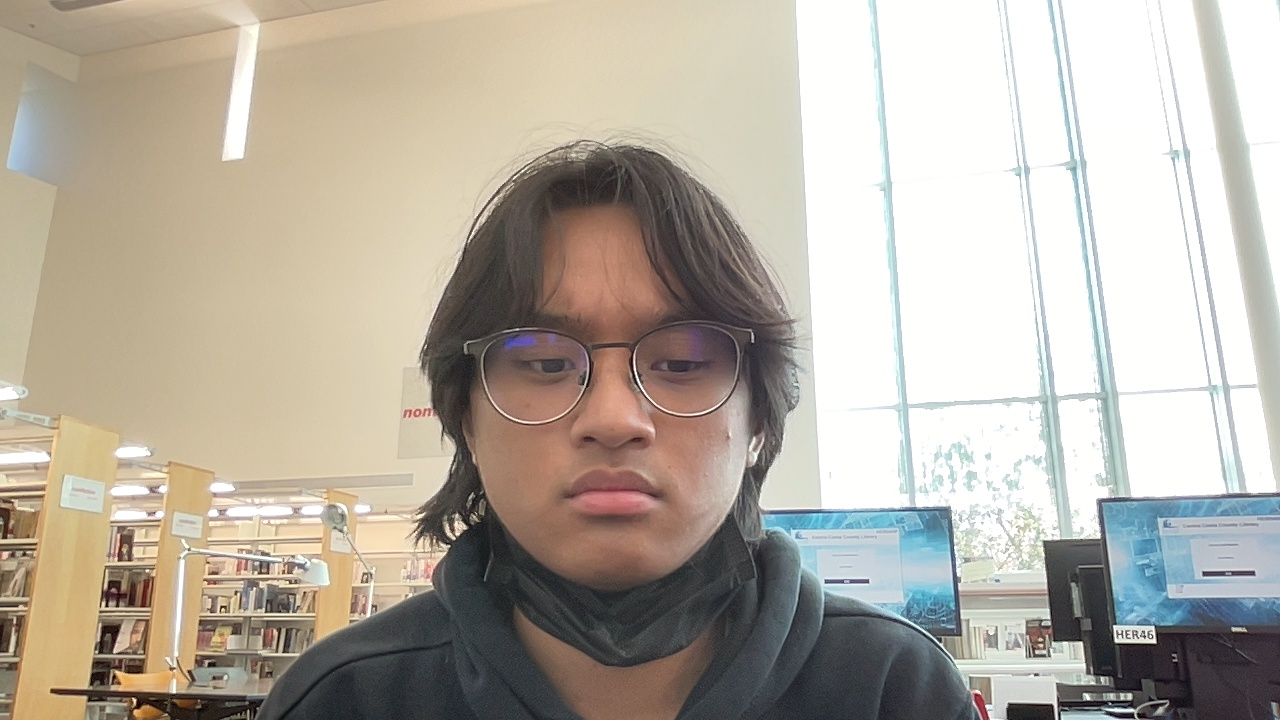anger: (422, 123, 802, 586)
